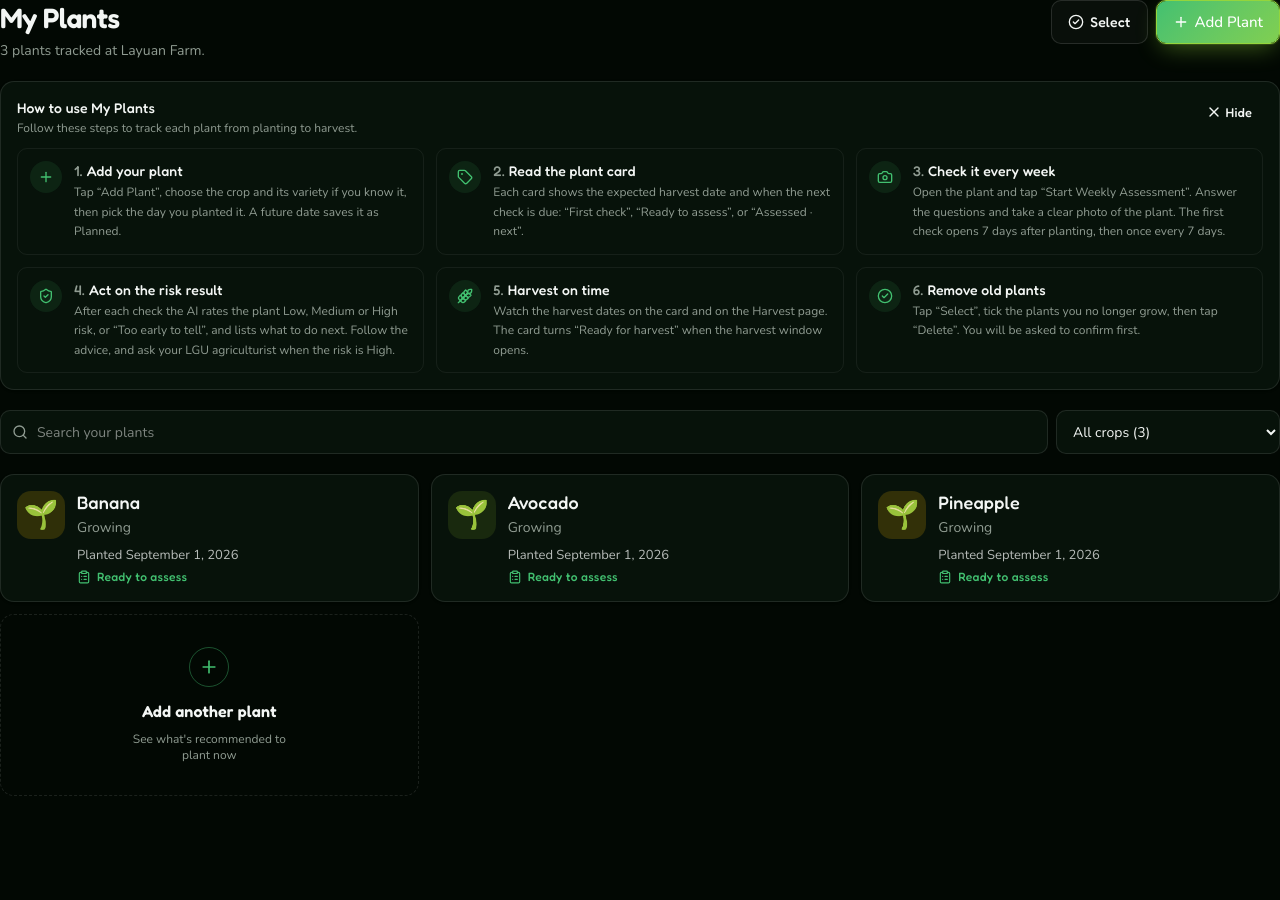
Test: My Plants › says which plants failed, and keeps them selected to try again
The width and height of the screenshot is (1280, 900).
Step 1. Click the button "Select" → (1099,22), box left=1051, top=0, right=1148, bottom=44
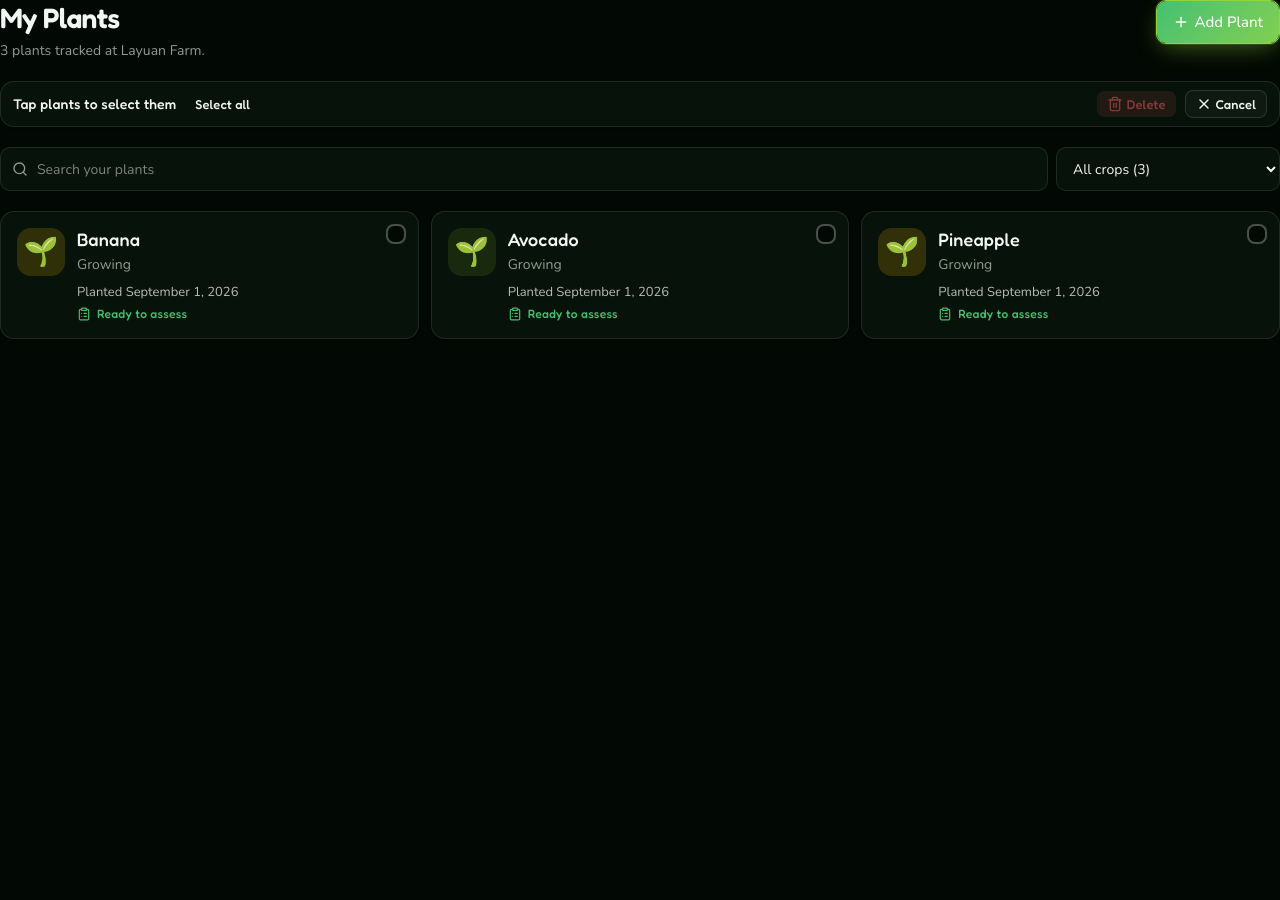
Step 2. Click the checkbox named "Select Banana" → (209,275), box left=0, top=211, right=419, bottom=339
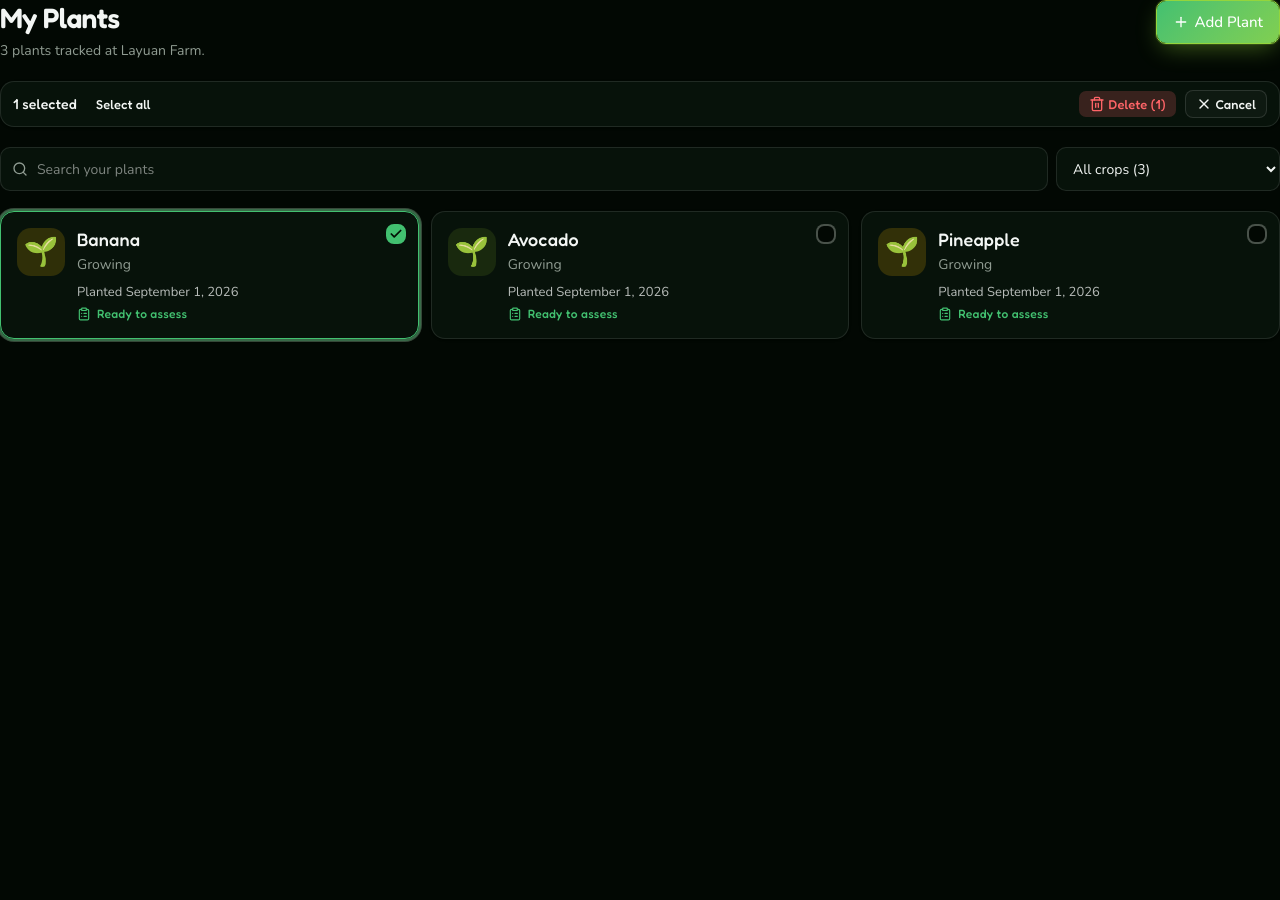
Step 3. Click the checkbox named "Select Pineapple" → (1071,275), box left=861, top=211, right=1279, bottom=339
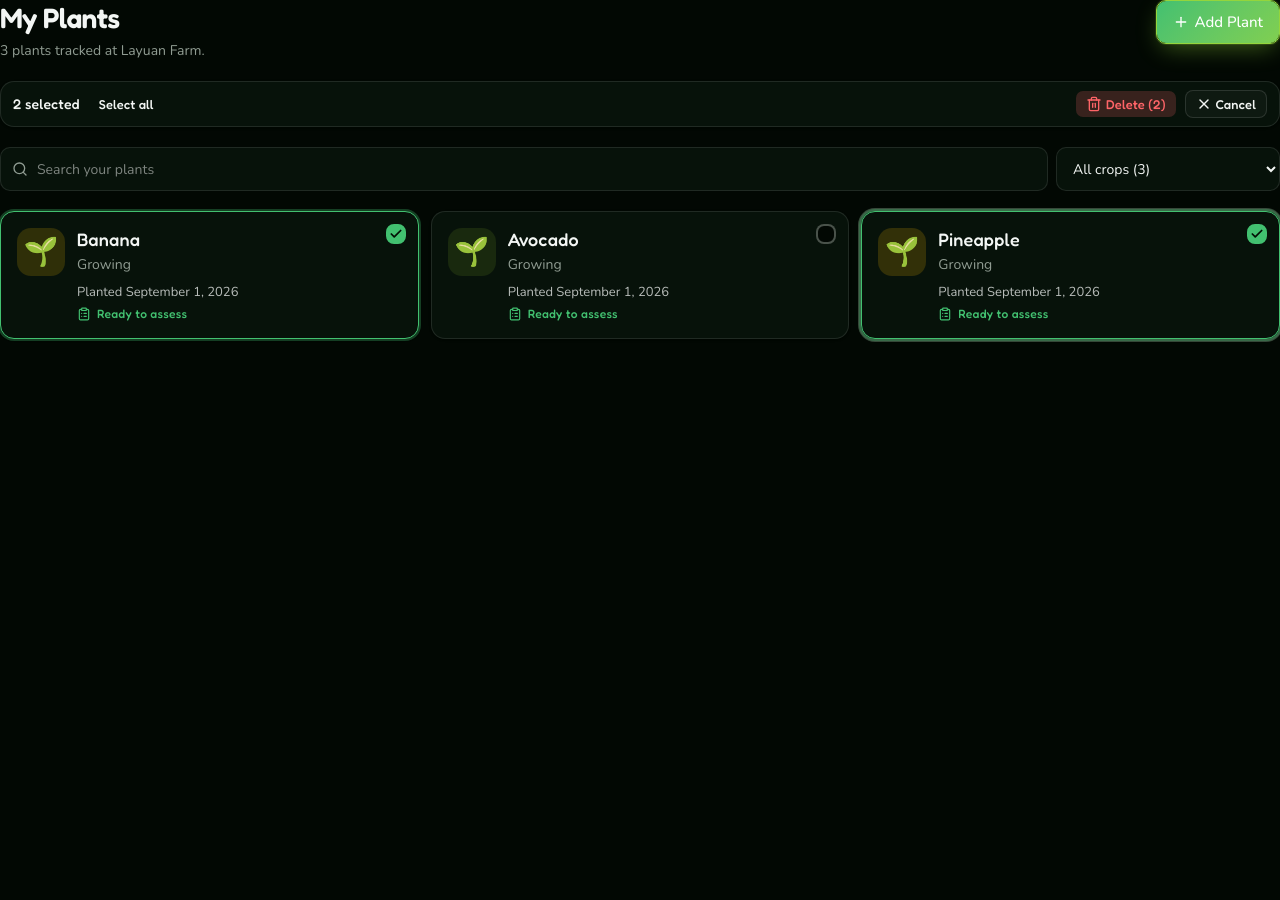
Step 4. Click the button "Delete (2)" → (1126,104), box left=1075, top=90, right=1176, bottom=118
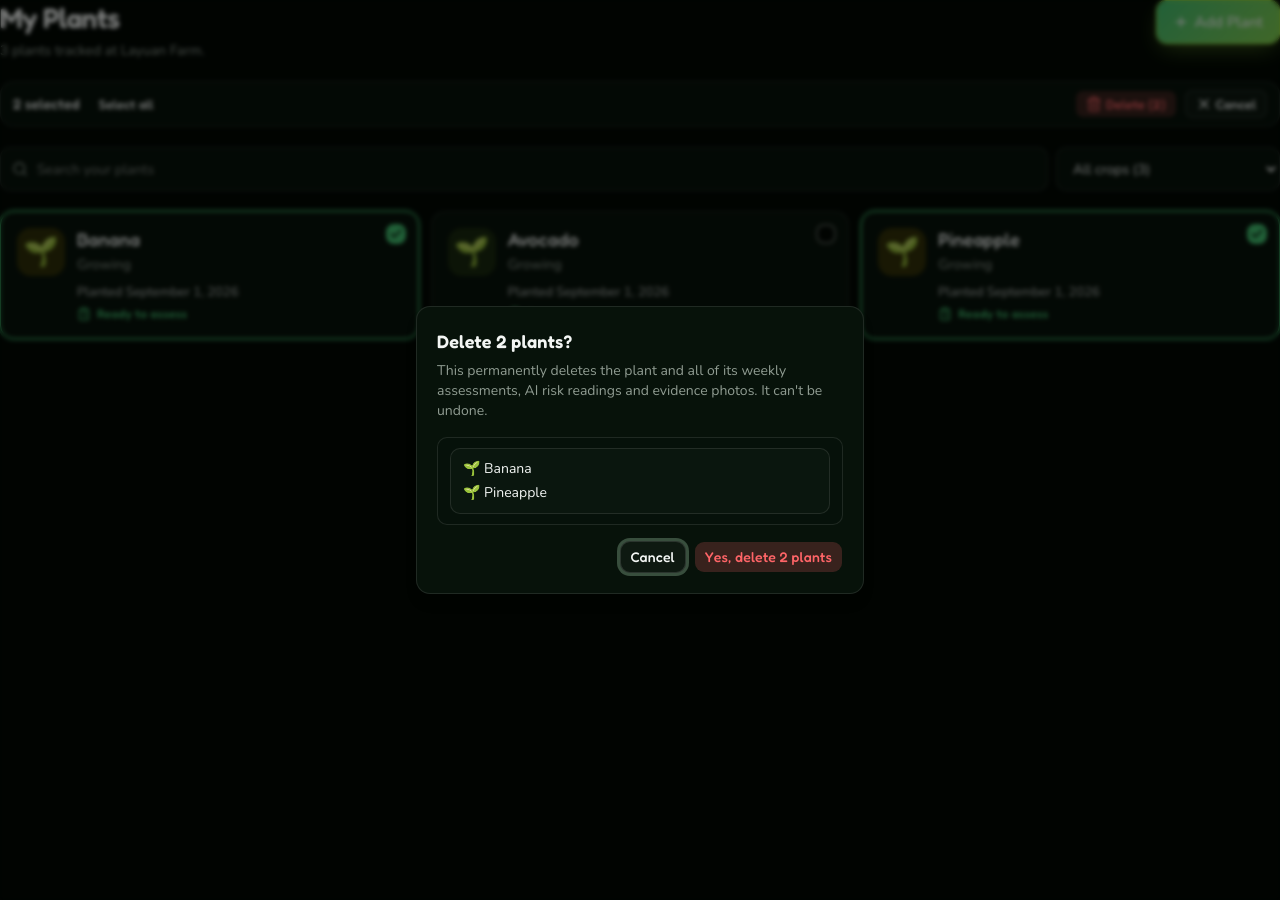
Step 5. Click the button "Yes, delete 2 plants" → (768,557), box left=694, top=541, right=843, bottom=573
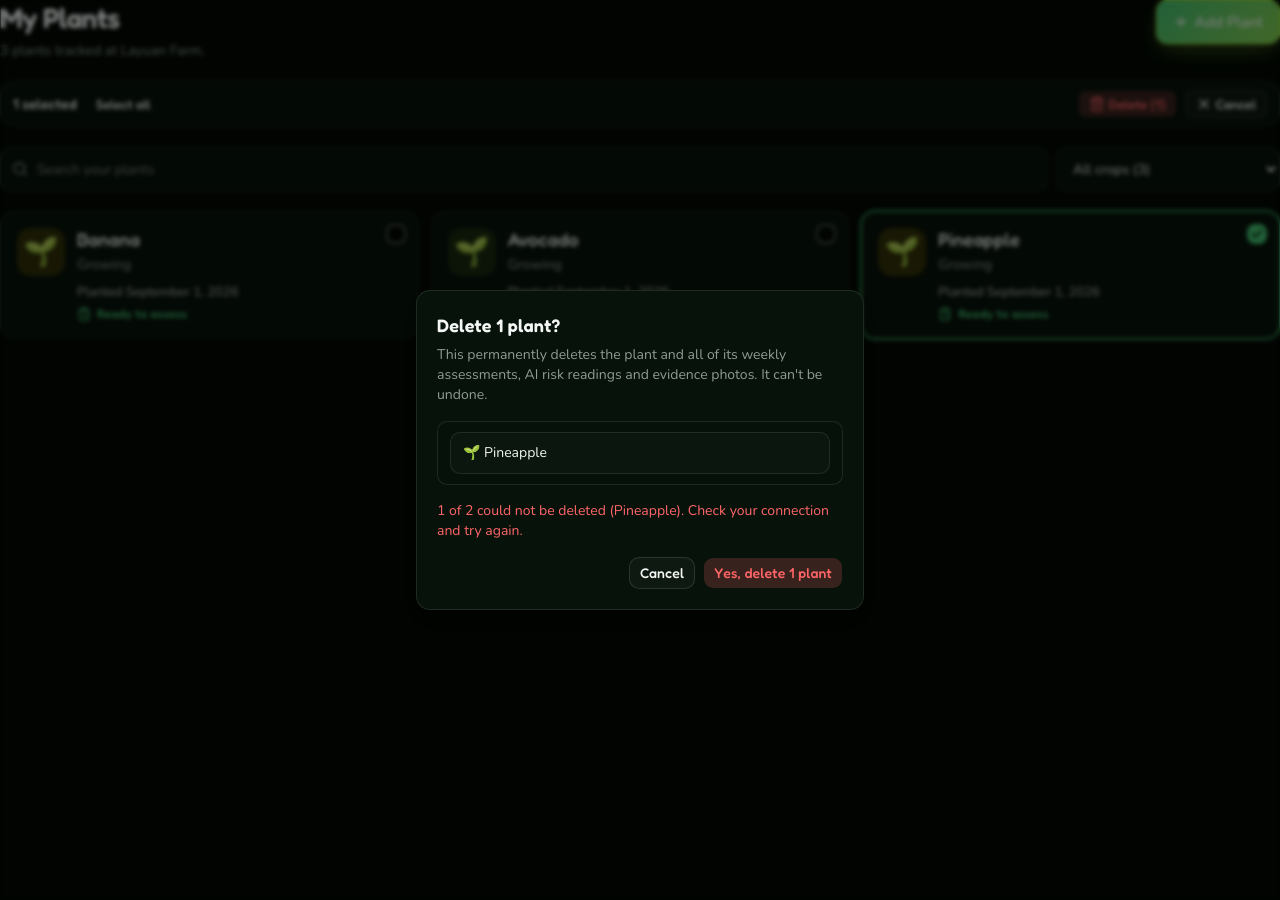
Now the text "1 of 2 could not be deleted (Pineapple)" is shown, box left=437, top=501, right=829, bottom=540
Now the dialog shows "Delete 1 plant?", box left=437, top=314, right=560, bottom=336
